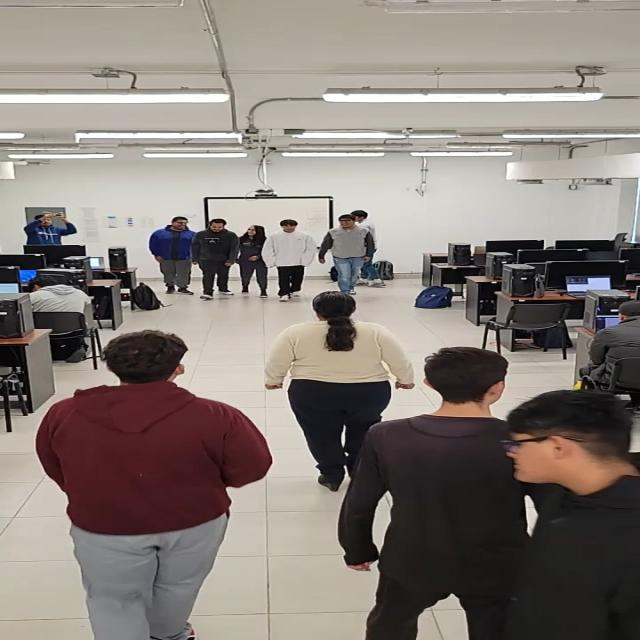Persona: (46, 329, 220, 640), (356, 346, 507, 630), (503, 390, 640, 637), (279, 293, 395, 449), (328, 215, 374, 291), (152, 215, 195, 294), (268, 223, 308, 301), (198, 219, 236, 299), (21, 207, 79, 245), (238, 223, 268, 295)
